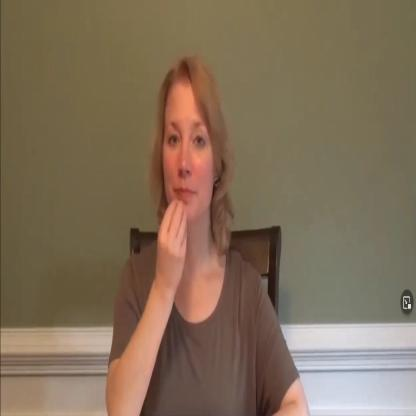Food: (106, 56, 307, 416)
